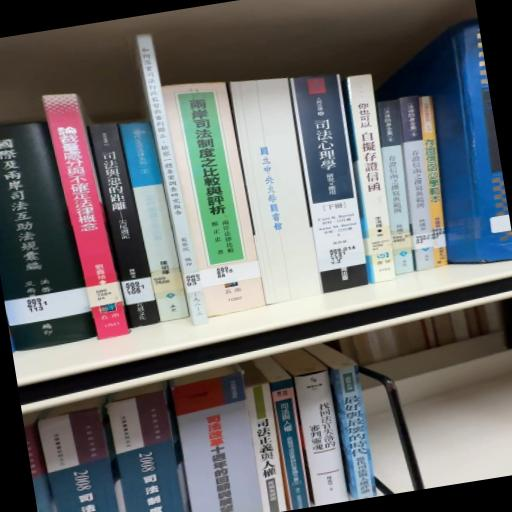backward: (235, 78, 331, 310)
book: (367, 22, 512, 283), (1, 118, 95, 353), (48, 91, 133, 343), (290, 76, 374, 299), (166, 76, 260, 269), (292, 371, 350, 507), (326, 363, 379, 502), (372, 100, 422, 243), (272, 380, 316, 511)
